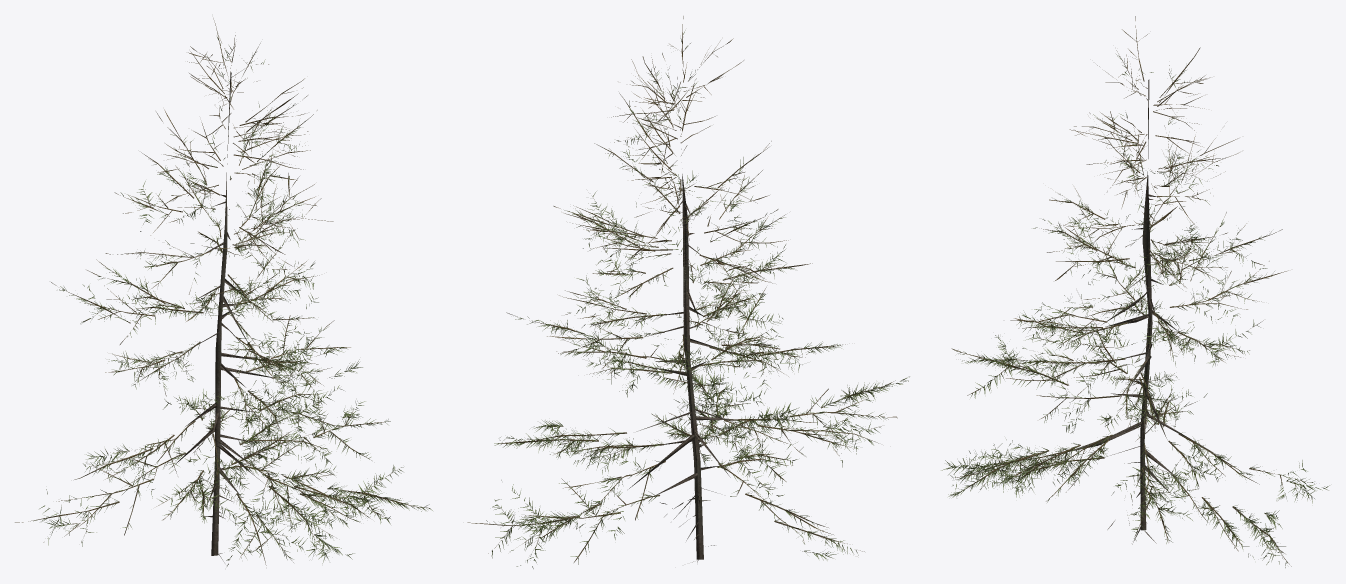
The model's file is fir_sapling_medium.glb.
3 renders of one model, left to right at view 1: azimuth 30°, elevation 25°; view 2: azimuth 150°, elevation 25°; view 3: azimuth 270°, elevation 25°, orthographic. The views are drawn at different scales.
Visible parts, largest first — view 1: fir_sapling_medium_c_LOD0; view 2: fir_sapling_medium_c_LOD0; view 3: fir_sapling_medium_c_LOD0.
Boxes of the visible parts, box(x1,y1,x2,y2) form: fir_sapling_medium_c_LOD0: box(15, 18, 432, 566); fir_sapling_medium_c_LOD0: box(467, 16, 909, 568); fir_sapling_medium_c_LOD0: box(941, 16, 1329, 567).
Bounding box in the file's own units: 4.18 × 5.75 × 3.98.
3 materials, 3 textured.
